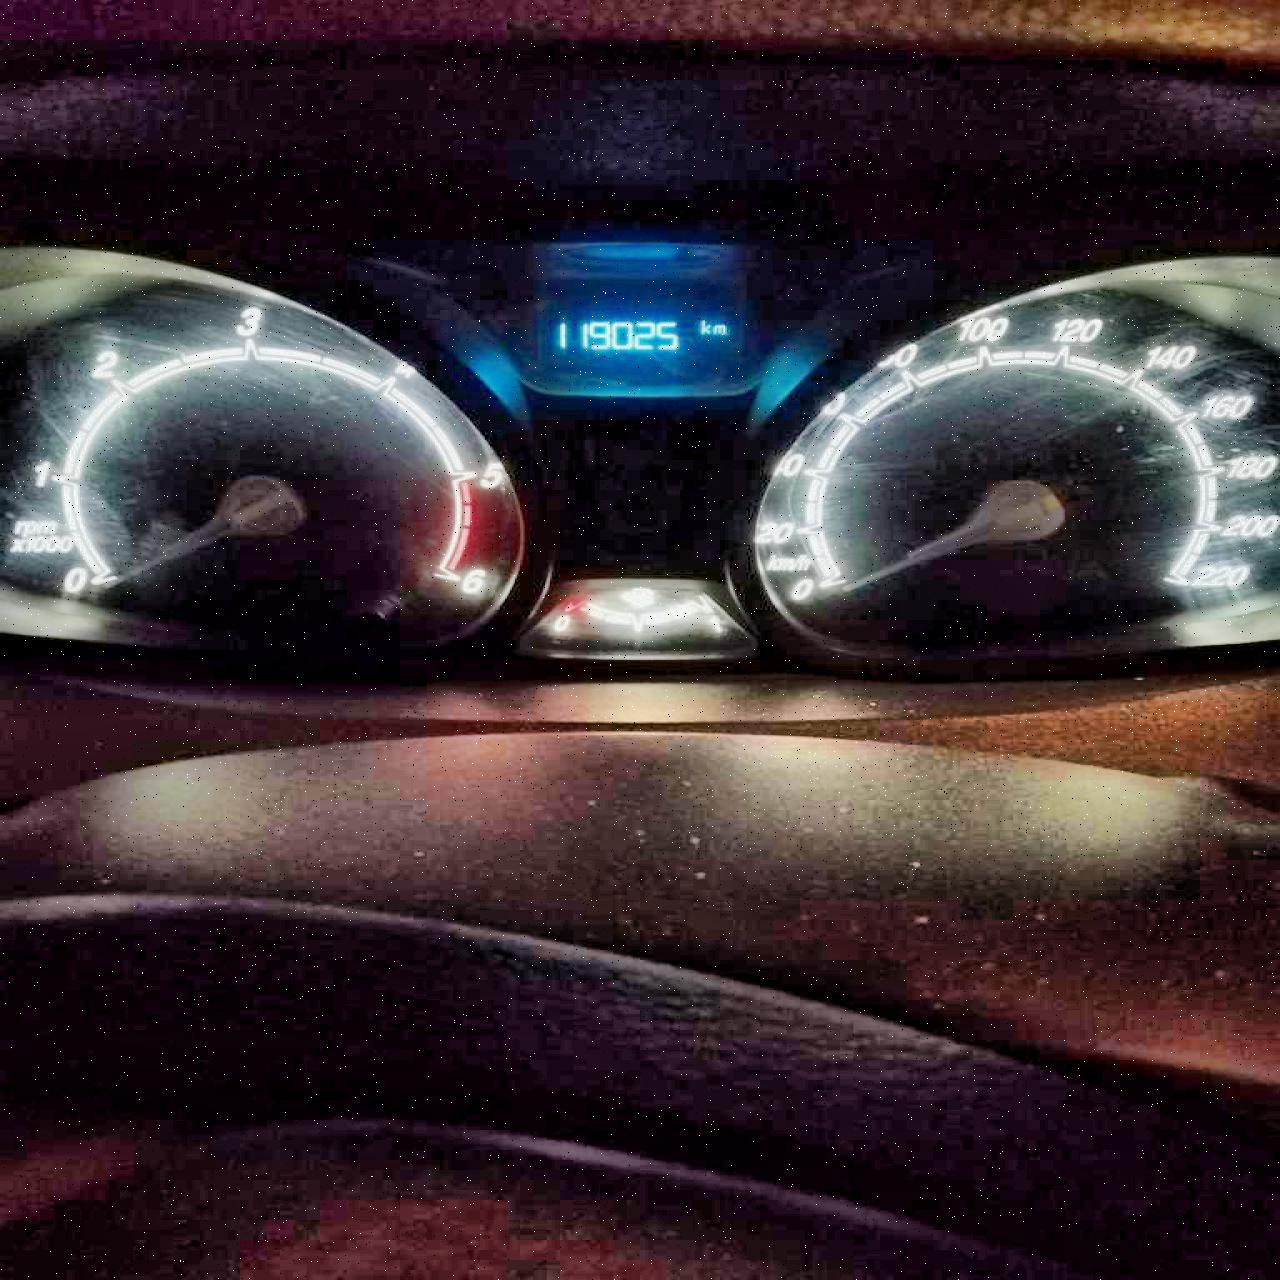0: (611, 319, 632, 350)
1: (554, 320, 570, 350), (577, 320, 588, 349)
2: (632, 320, 653, 350)
5: (655, 320, 682, 350)
9: (590, 320, 610, 350)
X: (712, 322, 727, 335), (699, 318, 710, 334)
odometer: (535, 290, 745, 379)
